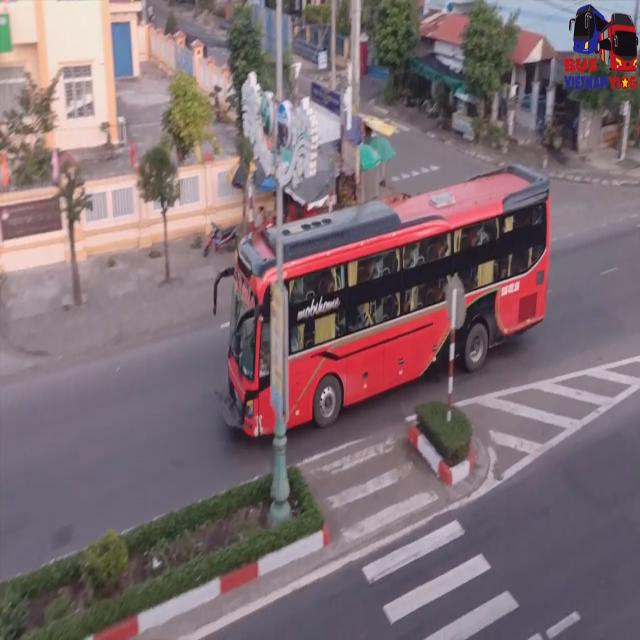bus: (225, 190, 553, 444)
